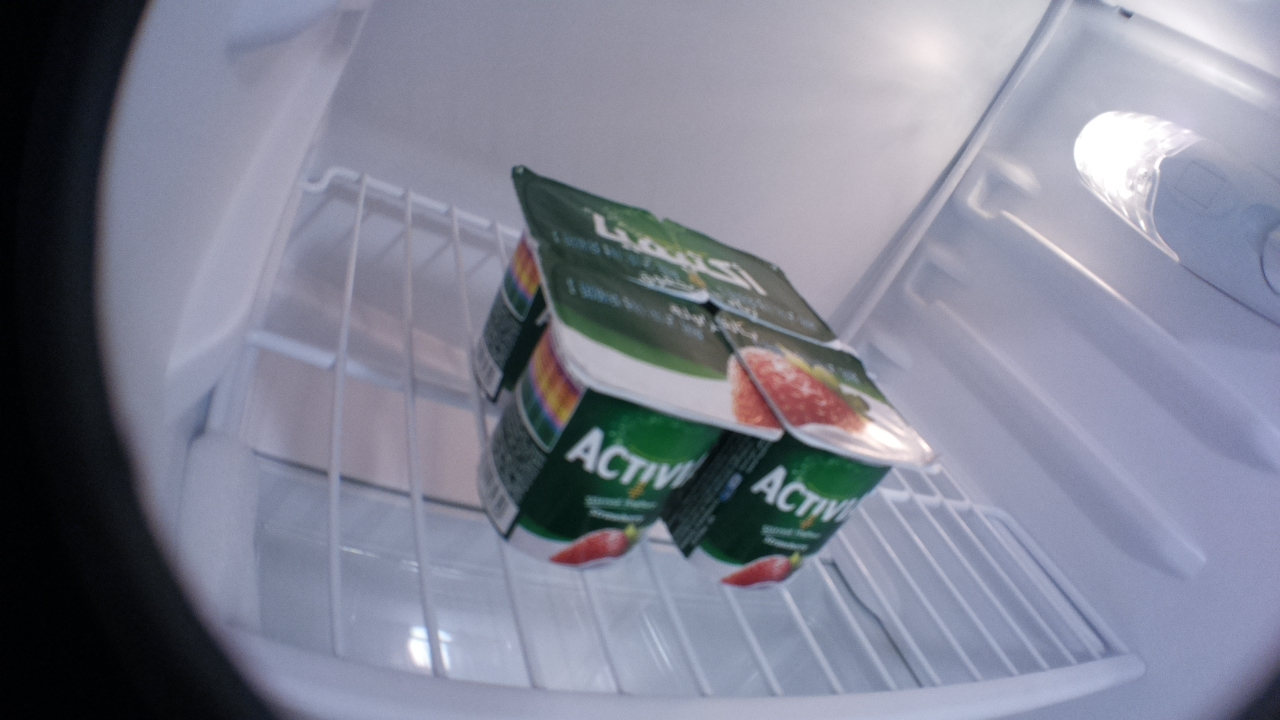yoghurt: (472, 252, 779, 570), (663, 309, 940, 588), (500, 166, 711, 302), (667, 213, 839, 344)
